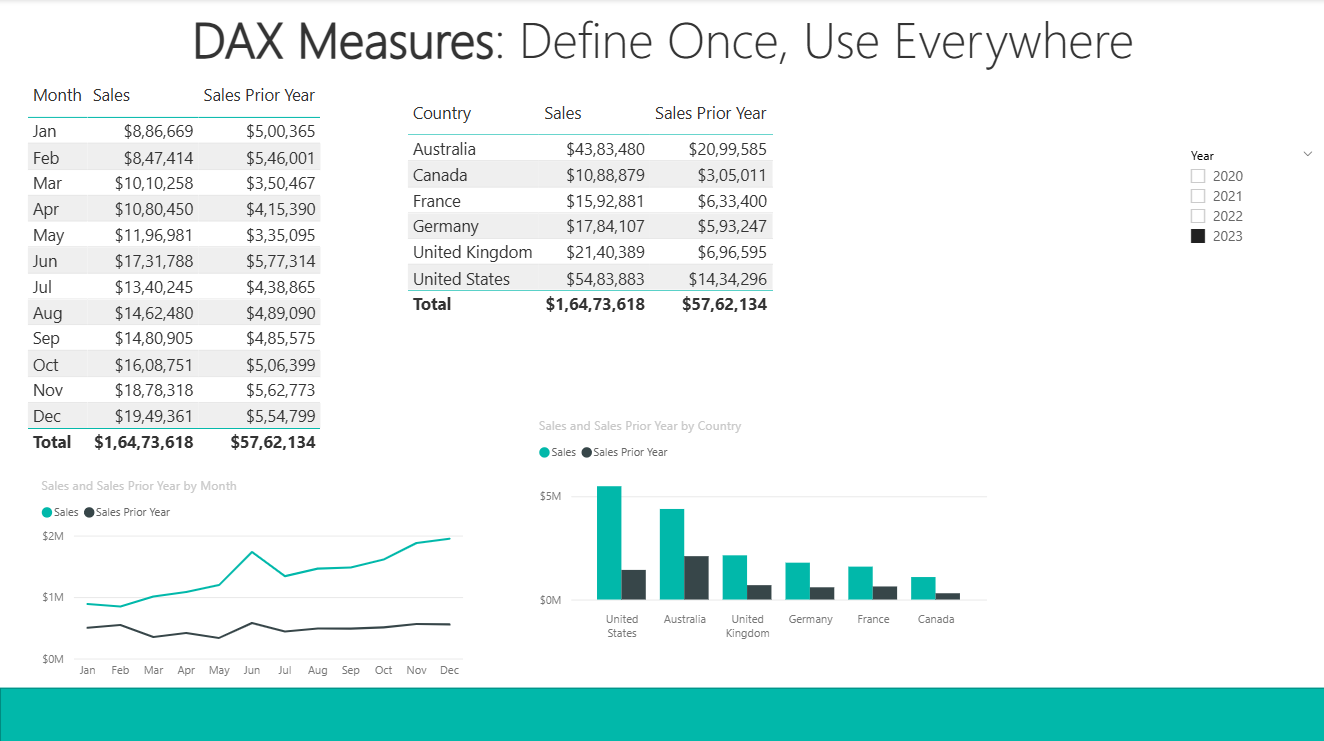

Layout of this report page (visuals, bound fields, positions):
{"tool":"powerbi","page":{"name":"DAX Measure","canvas":[1280,720],"ordinal":0},"visuals":[{"type":"textbox","box":[0,0,1280,92.3],"z":0},{"type":"tableEx","fields":{"Values":["Calendar.Month","Sales.Sales","Sales.Sales Prior Year"]},"box":[20,74.4,304.4,374.4],"z":1000},{"type":"slicer","fields":{"Values":["Calendar.Year"]},"box":[1136.6,137.5,143.4,135.6],"z":2000},{"type":"tableEx","fields":{"Values":["Territories.Country","Sales.Sales","Sales.Sales Prior Year"]},"box":[386.7,92.2,442.2,223.3],"z":3000},{"type":"lineChart","fields":{"Category":["Calendar.Month"],"Y":["Sales.Sales","Sales.Sales Prior Year"]},"box":[34.4,461.1,416.7,203.3],"z":4000},{"type":"clusteredColumnChart","fields":{"Category":["Territories.Country"],"Y":["Sales.Sales","Sales.Sales Prior Year"]},"box":[515.6,403.3,442.2,223.3],"z":5000},{"type":"shape","box":[0,664.7,1280,55.5],"z":5001}]}

Visuals, with their boxes in screenshot pixels (x1, y1, x2, y2), scaled from the page's 1280x720 canvas onto the 1324x741 screenshot:
textbox: pyautogui.locateOnScreen(0, 0, 1323, 95)
tableEx - Calendar.Month x Sales.Sales: pyautogui.locateOnScreen(21, 77, 336, 462)
slicer - Calendar.Year: pyautogui.locateOnScreen(1176, 142, 1323, 281)
tableEx - Territories.Country x Sales.Sales: pyautogui.locateOnScreen(400, 95, 857, 325)
lineChart - Calendar.Month x Sales.Sales: pyautogui.locateOnScreen(36, 475, 467, 684)
clusteredColumnChart - Territories.Country x Sales.Sales: pyautogui.locateOnScreen(533, 415, 991, 645)
shape: pyautogui.locateOnScreen(0, 684, 1323, 740)
